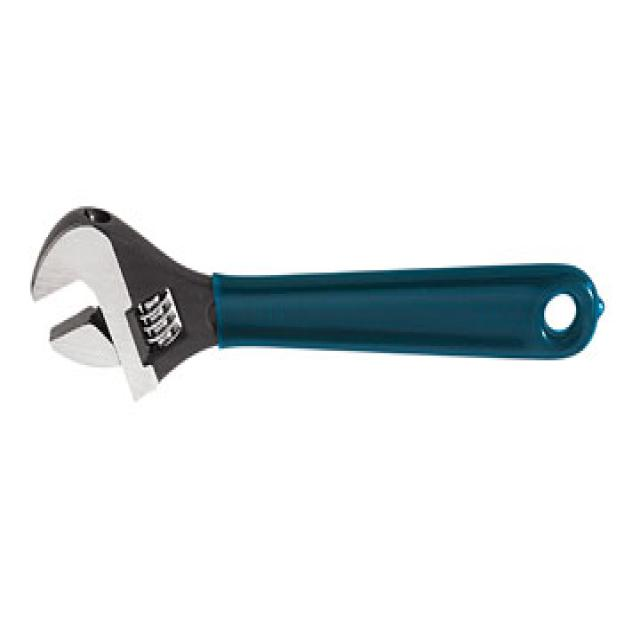wrench: (21, 162, 620, 432)
